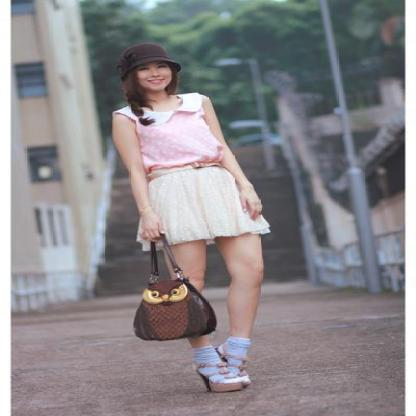bag: (133, 242, 216, 340)
dress: (116, 93, 270, 240)
hat: (121, 47, 180, 74)
shoe: (200, 374, 246, 401)
